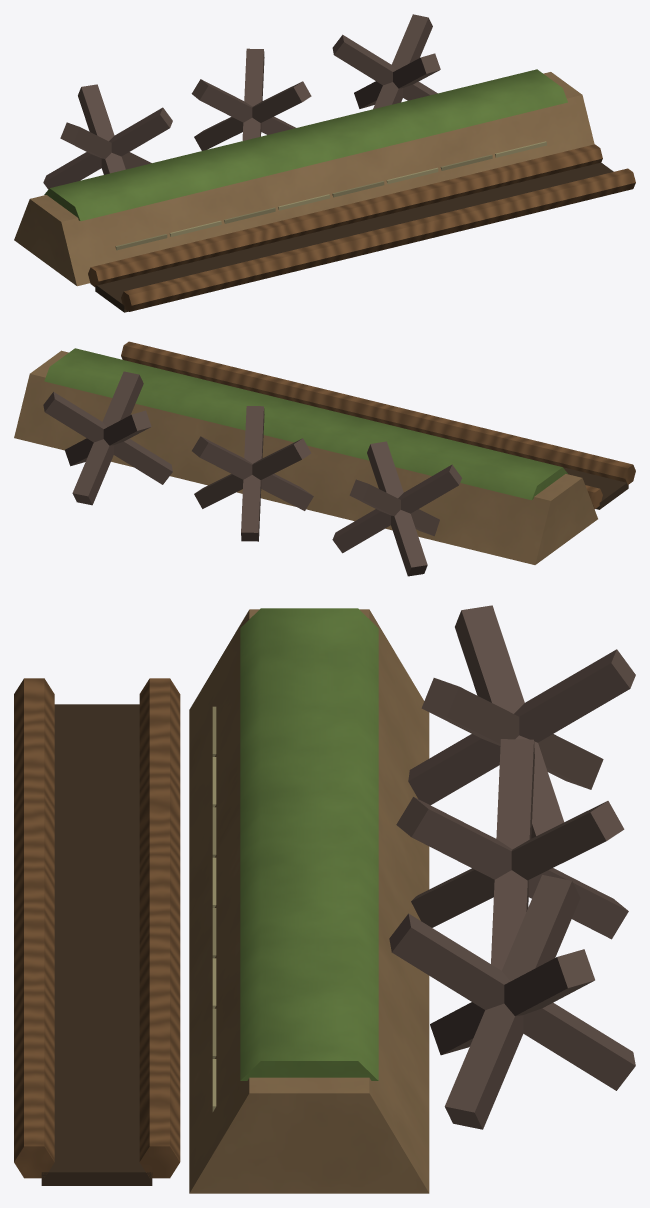
The model's file is fort_l6_edge.glb.
The picture shows the model from 3 angles, top to bottom: view 1: azimuth 30°, elevation 25°; view 2: azimuth 150°, elevation 25°; view 3: azimuth 270°, elevation 25°; orthographic projection. The views are drawn at different scales.
Parts seen in each view (by area): view 1: fort_l6_edge; view 2: fort_l6_edge; view 3: fort_l6_edge.
Boxes of the visible parts, left/top/right/bottom form: fort_l6_edge: left=14, top=14, right=635, bottom=312; fort_l6_edge: left=14, top=341, right=635, bottom=576; fort_l6_edge: left=14, top=605, right=635, bottom=1193.
Bounding box in the file's own units: 0.62 × 0.1018 × 0.3368.
1 material, 1 textured.
